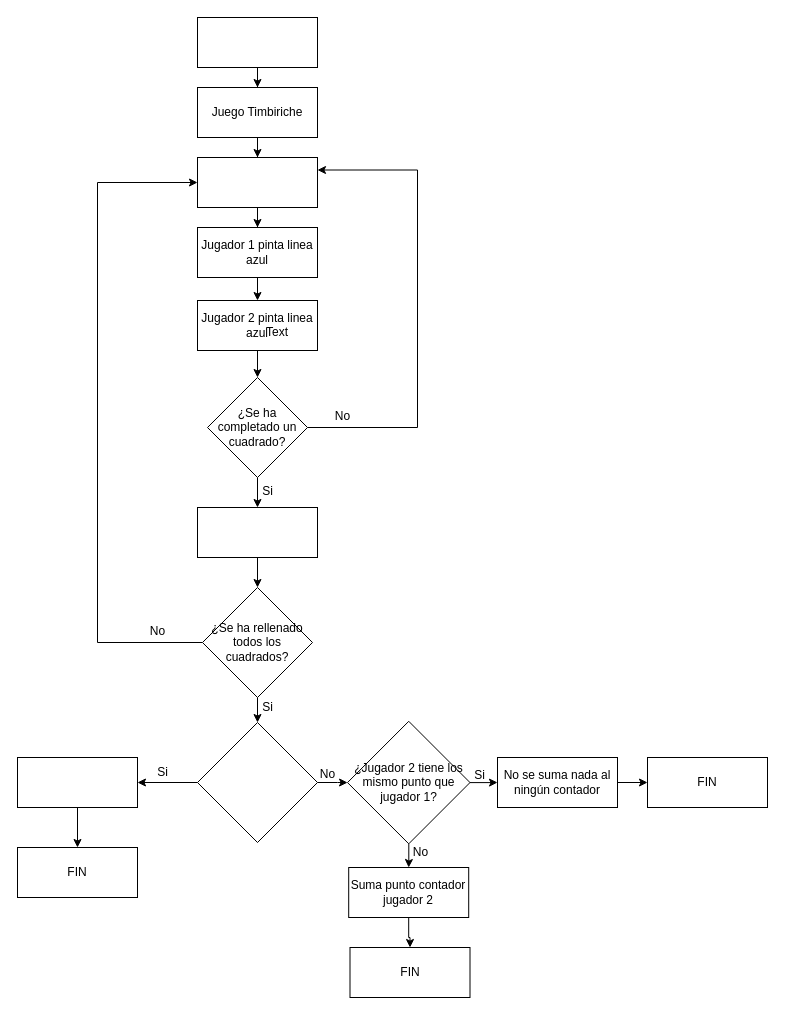
Some shapes in this 785 by 1015 pixel diagram are drawn without their labels. The centre of each missing label's shape, as x and y in pixels:
"INICIO" belongs at (257,42).
"Se pinta cuadrado del jugador ganador" belongs at (257,532).
"Suma punto contador jugador 1" belongs at (77,782).
"Turno jugador 1" belongs at (257,182).
"¿Jugador 1 tiene mas cuadrado que jugador 2?" belongs at (257,782).
